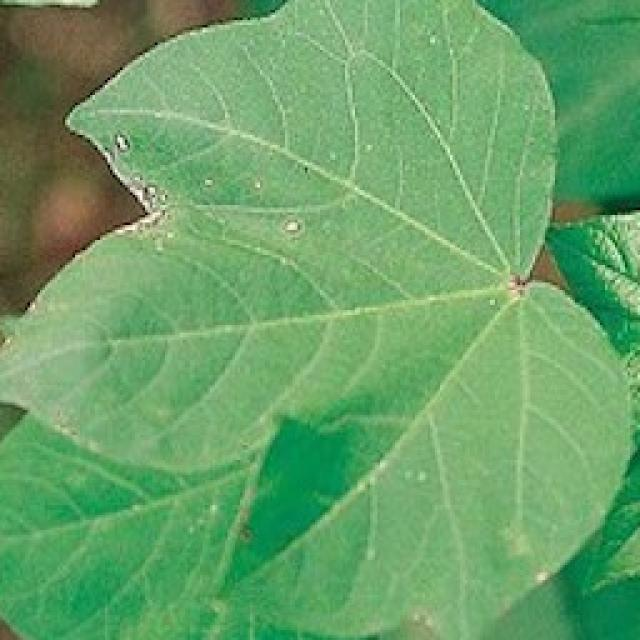Healthy Leaf: (6, 5, 640, 626)
